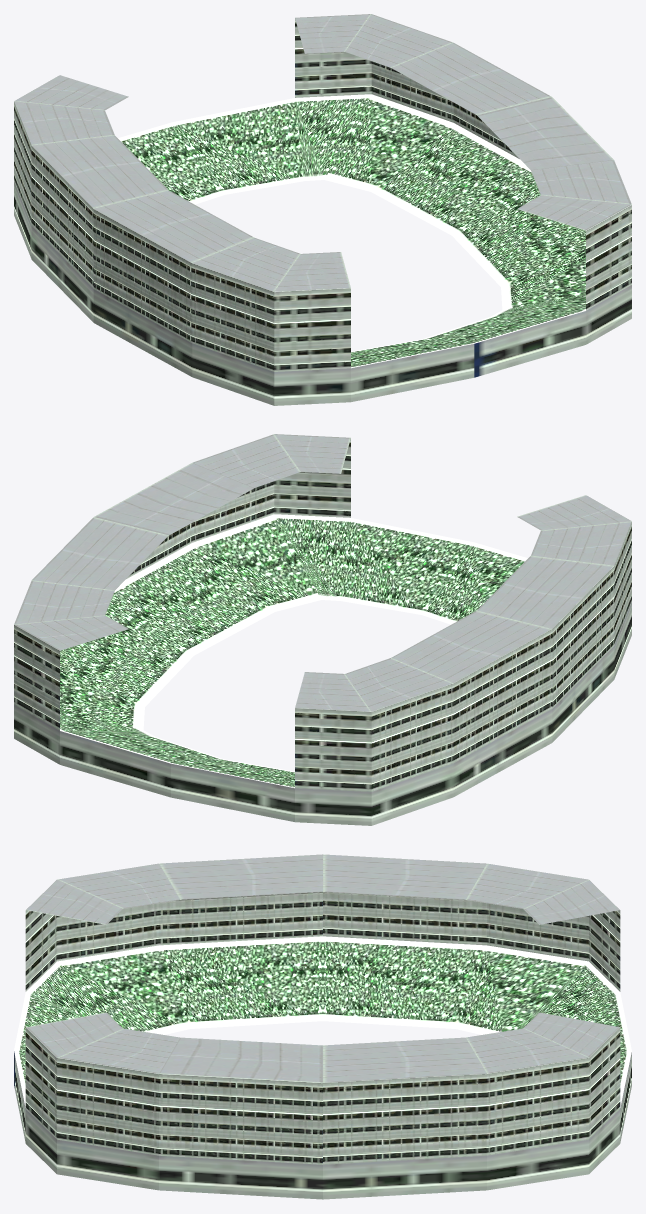
File: skcl_env.gltf
3 renders of one model, top to bottom at view 1: azimuth 30°, elevation 25°; view 2: azimuth 150°, elevation 25°; view 3: azimuth 270°, elevation 25°, orthographic. The views are drawn at different scales.
Parts seen in each view (by area): view 1: node1; view 2: node1; view 3: node1.
Boxes of the visible parts, box(x1,y1,x2,y2) form: node1: box(14, 14, 631, 405); node1: box(14, 434, 631, 825); node1: box(14, 854, 631, 1199).
Size of the model in its own units: 175 by 41.7 by 200.
